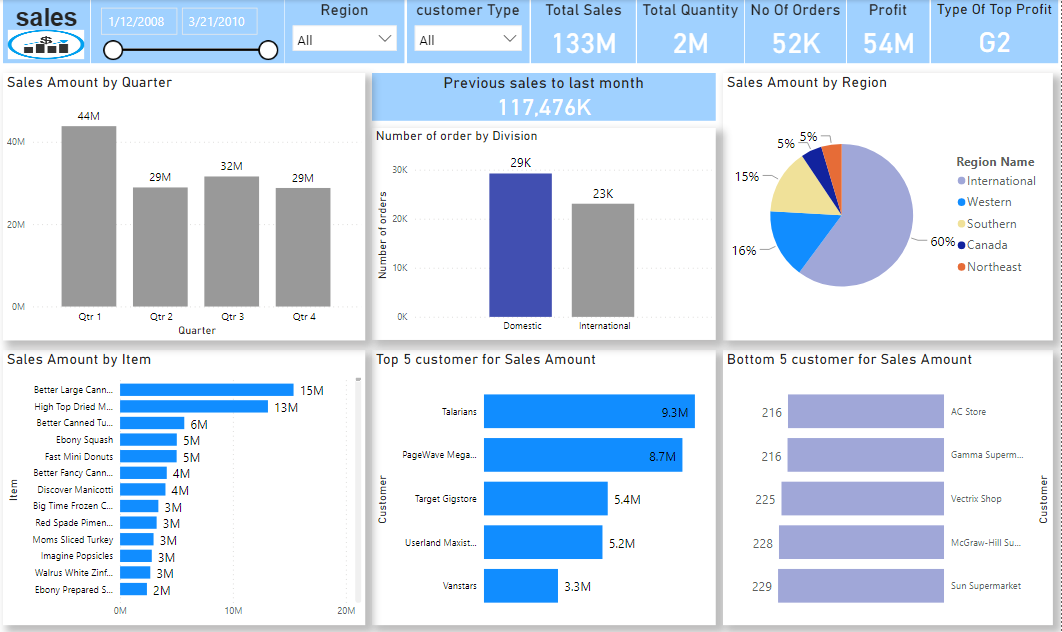

What the dashboard file says about the page in this screenshot:
{"tool":"powerbi","page":{"name":"Sales","canvas":[1380,820],"ordinal":0},"visuals":[{"type":"barChart","title":"Top 5 customer for Sales Amount","fields":{"Category":["Sales Table.Customer "],"Y":["Sum(Sales Table.Sales Amount )"]},"box":[486,453.5,445.7,357.4],"z":0},{"type":"slicer","title":"Date","fields":{"Values":["Sales.DateKey "]},"box":[122.2,0,250.8,81.9],"z":1000},{"type":"slicer","title":"customer Type","fields":{"Values":["Sales.Customer Type"]},"box":[531.5,0,158.5,81.9],"z":2000},{"type":"slicer","title":"Region","fields":{"Values":["Region.Region Name "]},"box":[374.3,0,154.6,81.9],"z":3000},{"type":"barChart","title":"Bottom 5 customer for Sales Amount","fields":{"Category":["Sales Table.Customer "],"Y":["Sum(Sales Table.Sales Amount )"]},"box":[942.2,453.5,427.5,357.4],"z":4000},{"type":"card","title":"Type Of Top Profit","fields":{"Values":["Min(Sales.Customer Type)"]},"box":[1212.5,0,165,81.9],"z":5000},{"type":"card","title":"Total Sales","fields":{"Values":["Sum(Sales.Sales Amount )"]},"box":[692.6,0,136.5,81.9],"z":6000},{"type":"card","title":"No Of Orders","fields":{"Values":["Sales.no of order"]},"box":[970.7,0,131.3,81.9],"z":7000},{"type":"barChart","fields":{"Category":["Sales.Item "],"Y":["Sum(Sales.Sales Amount )"]},"box":[7.8,453.5,470.4,357.4],"z":8000},{"type":"card","title":"Total Quantity","fields":{"Values":["Sum(Sales.Sales Quantity )"]},"box":[830.4,0,139,81.9],"z":9000},{"type":"pieChart","title":"Sales Amount  by Region","fields":{"Category":["Region.Region Name"],"Y":["Sum(Sales.Sales Amount )"]},"box":[942.2,94.9,427.5,347],"z":10000},{"type":"clusteredColumnChart","title":"Number of order by Division","fields":{"Y":["Sales.no of order"],"Category":["Division.Division Name "]},"box":[486,166.3,445.7,275.5],"z":11000},{"type":"card","title":"Previous sales to last month","fields":{"Values":["Sales.perovis"]},"box":[486,94.9,445.7,62.4],"z":12000},{"type":"columnChart","fields":{"Category":["Sales.DateKey .Variation.Date Hierarchy.Quarter","Sales.DateKey .Variation.Date Hierarchy.Month"],"Y":["Sum(Sales.Sales Amount )"]},"box":[7.8,94.9,470.4,347],"z":13000},{"type":"textbox","box":[7.8,0,113.1,81.9],"z":14000},{"type":"image","box":[9.1,33.8,109.2,48.1],"z":15000},{"type":"card","title":"Profit","fields":{"Values":["Sales.profit"]},"box":[1103.3,0,106.6,81.9],"z":16000}]}

Visuals, with their boxes in screenshot pixels (x1, y1, x2, y2), scaled from the page's 1380x820 canvas onto the 1062x632 screenshot:
"Top 5 customer for Sales Amount" barChart: 374,350,717,625
"Date" slicer: 94,0,287,63
"customer Type" slicer: 409,0,531,63
"Region" slicer: 288,0,407,63
"Bottom 5 customer for Sales Amount" barChart: 725,350,1054,625
"Type Of Top Profit" card: 933,0,1060,63
"Total Sales" card: 533,0,638,63
"No Of Orders" card: 747,0,848,63
barChart - Sales.Item  x Sum(Sales.Sales Amount ): 6,350,368,625
"Total Quantity" card: 639,0,746,63
"Sales Amount  by Region" pieChart: 725,73,1054,341
"Number of order by Division" clusteredColumnChart: 374,128,717,341
"Previous sales to last month" card: 374,73,717,121
columnChart - Sales.DateKey .Variation.Date Hierarchy.Quarter x Sales.DateKey .Variation.Date Hierarchy.Month: 6,73,368,341
textbox: 6,0,93,63
image: 7,26,91,63
"Profit" card: 849,0,931,63
